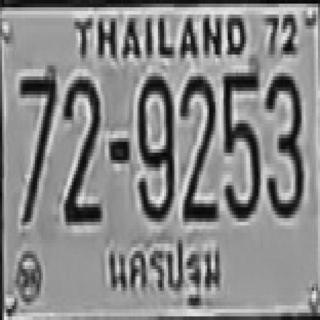N02: (62, 74, 100, 220), (180, 73, 217, 218)
N03: (264, 69, 302, 215)
N05: (222, 69, 258, 218)
N07: (18, 66, 56, 222)
N09: (137, 73, 172, 218)
P28: (103, 239, 224, 311)
